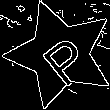P_NW: (29, 23, 92, 86)
